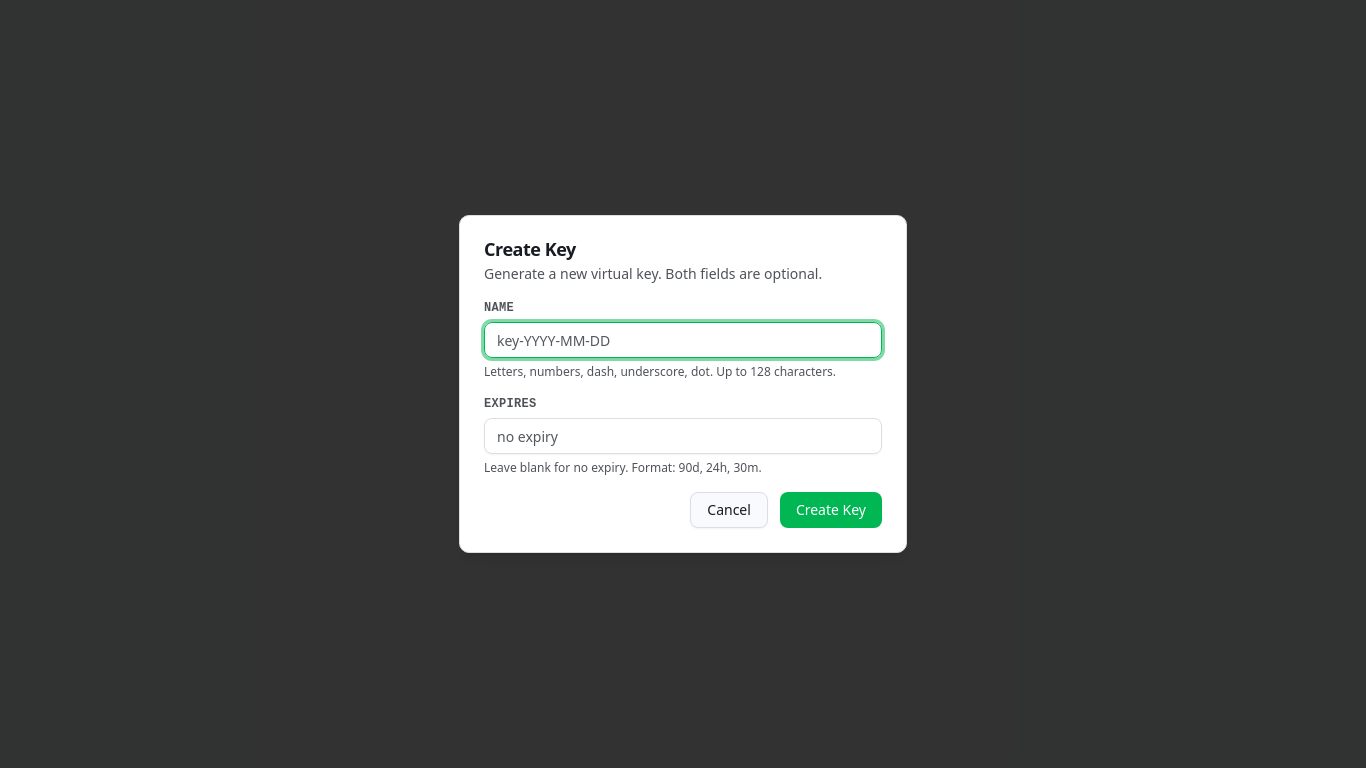
CreateKeyModal — server error routing › a 502 rejection (detail null) shows CREATE_502_ERROR
The width and height of the screenshot is (1366, 768).
Click the button "Create Key" at (831, 510), box [780,492,882,528]
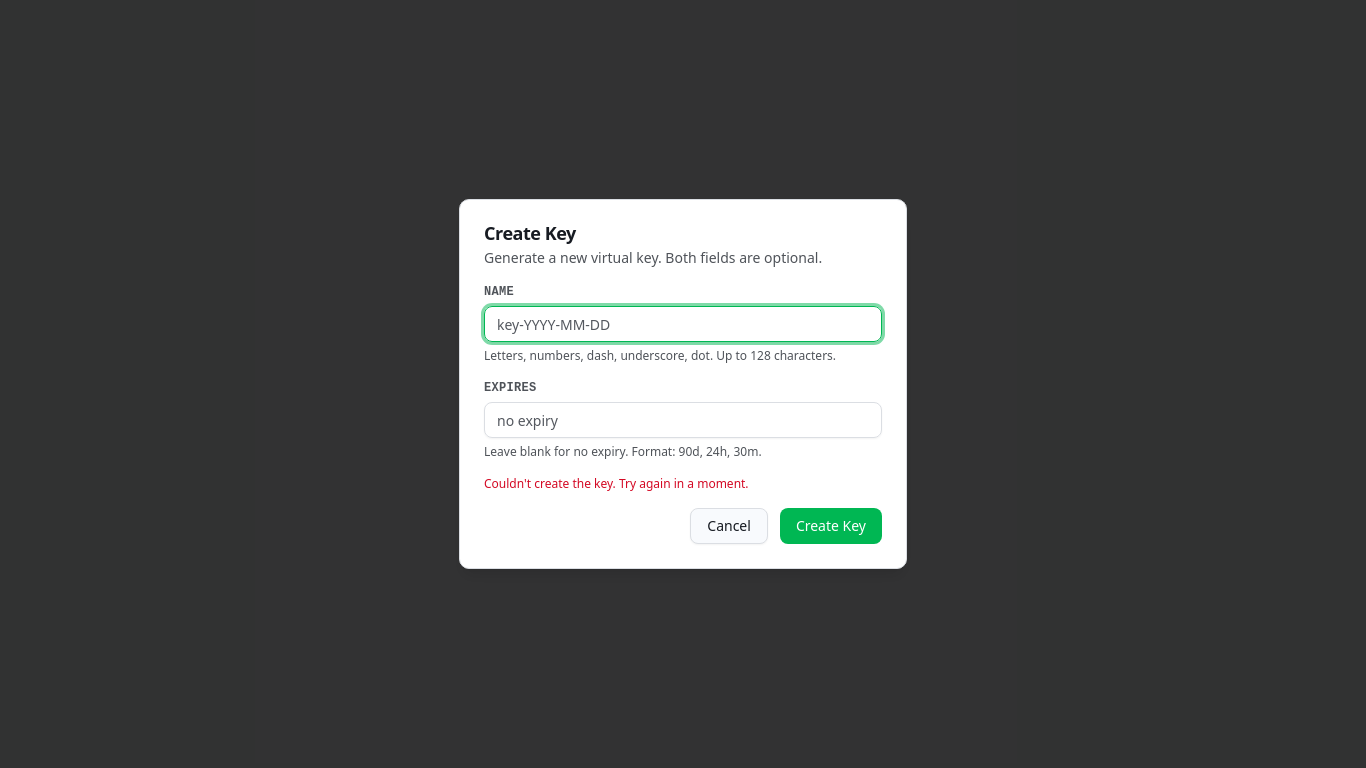
Check: the text "Couldn't create the key. Try again in a moment." is shown, box [484,475,749,492]
